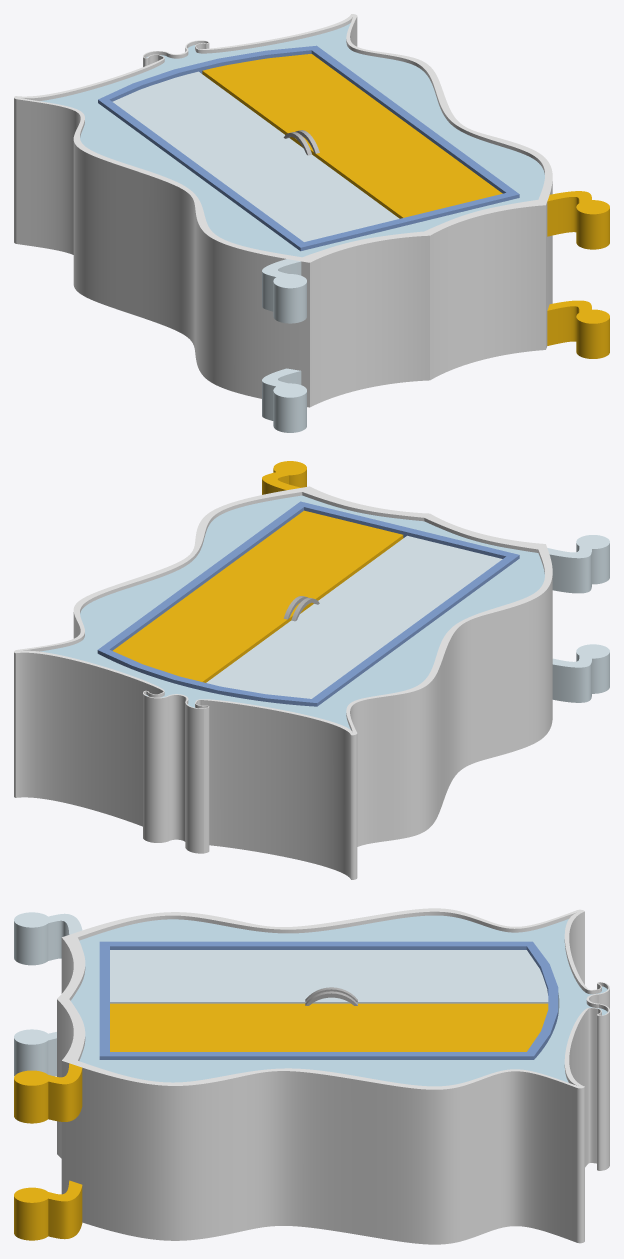
The model's file is dresser2.fbx.
The picture shows the model from 3 angles, top to bottom: view 1: azimuth 30°, elevation 25°; view 2: azimuth 150°, elevation 25°; view 3: azimuth 270°, elevation 25°; orthographic projection. The views are drawn at different scales.
Visible parts, largest first — view 1: 683b9fd1494fee3206e8149f.008, 683b9fd1494fee3206e8149f.009, 683b9fd1494fee3206e8149f.004, 683b9fd1494fee3206e8149f.007, 683b9fd1494fee3206e8149f.003, 683b9fd1494fee3206e8149f, 683b9fd1494fee3206e8149f.005, 683b9fd1494fee3206e8149f.001, 683b9fd1494fee3206e8149f.011; view 2: 683b9fd1494fee3206e8149f.008, 683b9fd1494fee3206e8149f.009, 683b9fd1494fee3206e8149f.004, 683b9fd1494fee3206e8149f.007, 683b9fd1494fee3206e8149f.003, 683b9fd1494fee3206e8149f.001, 683b9fd1494fee3206e8149f.011, 683b9fd1494fee3206e8149f.005; view 3: 683b9fd1494fee3206e8149f.008, 683b9fd1494fee3206e8149f.004, 683b9fd1494fee3206e8149f.007, 683b9fd1494fee3206e8149f.009, 683b9fd1494fee3206e8149f.003, 683b9fd1494fee3206e8149f, 683b9fd1494fee3206e8149f.005, 683b9fd1494fee3206e8149f.001, 683b9fd1494fee3206e8149f.011.
Boxes of the visible parts, x1=… form: 683b9fd1494fee3206e8149f.008: x1=14, y1=14, x2=552, y2=407; 683b9fd1494fee3206e8149f.009: x1=202, y1=54, x2=502, y2=218; 683b9fd1494fee3206e8149f.004: x1=112, y1=71, x2=399, y2=241; 683b9fd1494fee3206e8149f.007: x1=40, y1=23, x2=544, y2=257; 683b9fd1494fee3206e8149f.003: x1=98, y1=45, x2=519, y2=251; 683b9fd1494fee3206e8149f: x1=547, y1=300, x2=609, y2=358; 683b9fd1494fee3206e8149f.005: x1=547, y1=191, x2=609, y2=249; 683b9fd1494fee3206e8149f.001: x1=262, y1=259, x2=306, y2=323; 683b9fd1494fee3206e8149f.011: x1=262, y1=368, x2=306, y2=432; 683b9fd1494fee3206e8149f.008: x1=14, y1=486, x2=552, y2=879; 683b9fd1494fee3206e8149f.009: x1=112, y1=510, x2=403, y2=682; 683b9fd1494fee3206e8149f.004: x1=206, y1=535, x2=502, y2=698; 683b9fd1494fee3206e8149f.007: x1=40, y1=495, x2=544, y2=729; 683b9fd1494fee3206e8149f.003: x1=97, y1=501, x2=519, y2=706; 683b9fd1494fee3206e8149f.001: x1=547, y1=535, x2=609, y2=593; 683b9fd1494fee3206e8149f.011: x1=552, y1=644, x2=609, y2=702; 683b9fd1494fee3206e8149f.005: x1=262, y1=461, x2=306, y2=494; 683b9fd1494fee3206e8149f.008: x1=57, y1=908, x2=609, y2=1244; 683b9fd1494fee3206e8149f.004: x1=110, y1=950, x2=548, y2=1003; 683b9fd1494fee3206e8149f.007: x1=71, y1=915, x2=607, y2=1086; 683b9fd1494fee3206e8149f.009: x1=110, y1=1003, x2=548, y2=1051; 683b9fd1494fee3206e8149f.003: x1=99, y1=941, x2=558, y2=1059; 683b9fd1494fee3206e8149f: x1=14, y1=1180, x2=82, y2=1240; 683b9fd1494fee3206e8149f.005: x1=14, y1=1063, x2=82, y2=1123; 683b9fd1494fee3206e8149f.001: x1=14, y1=912, x2=82, y2=965; 683b9fd1494fee3206e8149f.011: x1=14, y1=1029, x2=56, y2=1076.
Size of the model in its own units: 5.23 by 2.2 by 7.26.
